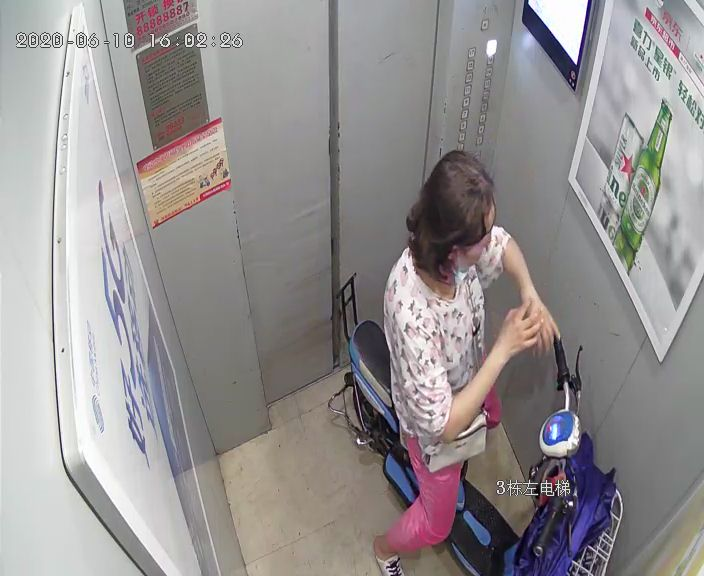Electric-bicycle: (337, 273, 623, 575)
